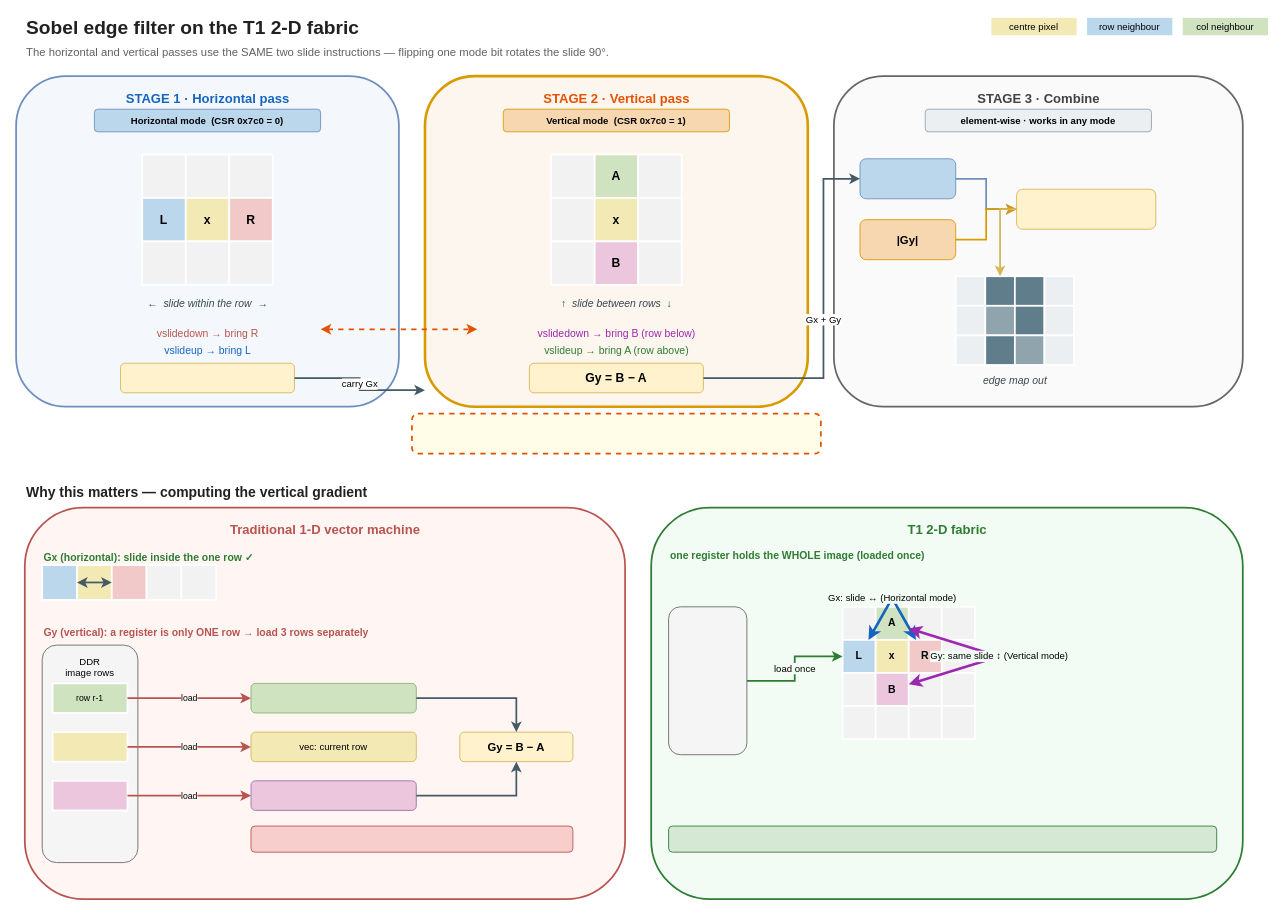
Some shapes in this 1284 by 914 pixel diagram are drawn without their labels. The centre of each missing label's shape, as x and y in pixels:
DDR image: pixel 707 680
Gx = R − L: pixel 207 377
row r: pixel 89 746
row r+1: pixel 89 795
sat8( |Gx| + |Gy| ): pixel 1086 208
vec: row above (A): pixel 333 698
vec: row below (B): pixel 333 795
|Gx|: pixel 907 178
↻ SAME two instructions as Stage 1 — the mode bit rotates the slide 90°: pixel 616 433
✓ one load, one register — Gy is the same slide with the mode bit flipped: pixel 942 838
✗ 3 loads + address arithmetic (or a transpose): pixel 411 838
